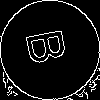B: (25, 25, 77, 67)
